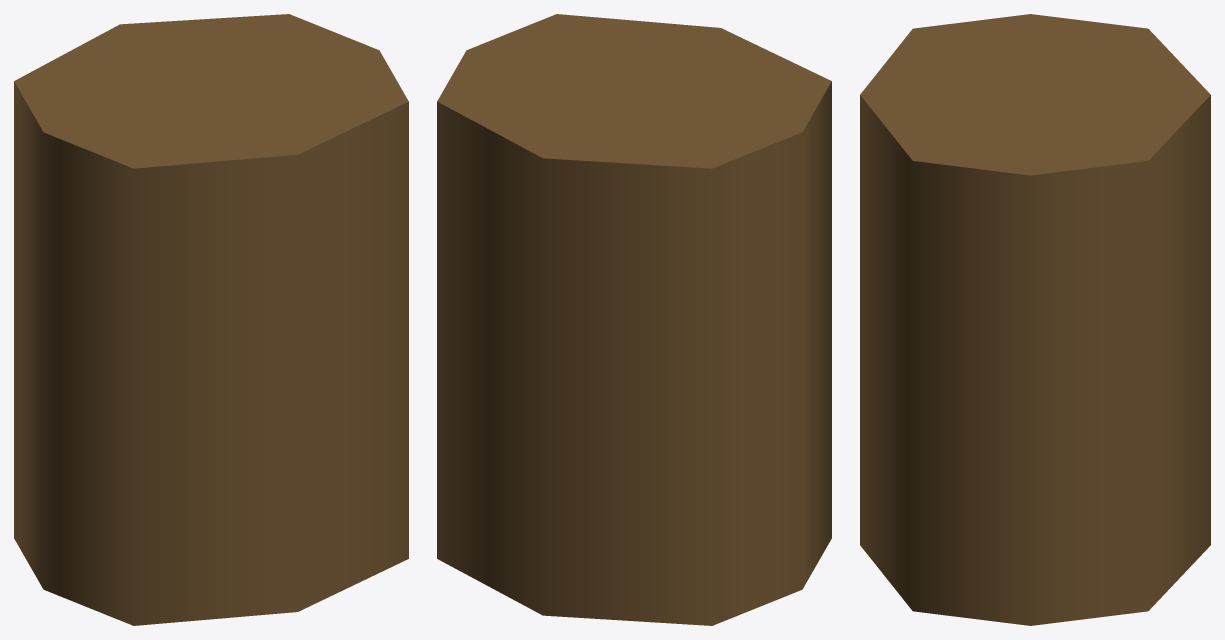
Rendered from cliff_01.fbx.
The picture shows the model from 3 angles, left to right: view 1: azimuth 30°, elevation 25°; view 2: azimuth 150°, elevation 25°; view 3: azimuth 270°, elevation 25°; orthographic projection.
Visible parts, largest first — view 1: pCube1; view 2: pCube1; view 3: pCube1.
Boxes of the visible parts, x1=… form: pCube1: x1=14, y1=14, x2=408, y2=625; pCube1: x1=437, y1=14, x2=831, y2=625; pCube1: x1=860, y1=14, x2=1210, y2=625.
Size of the model in its own units: 339 by 311 by 441.
